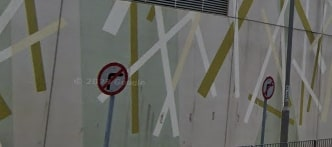No Turn Right: (96, 63, 132, 97), (258, 75, 278, 99)
